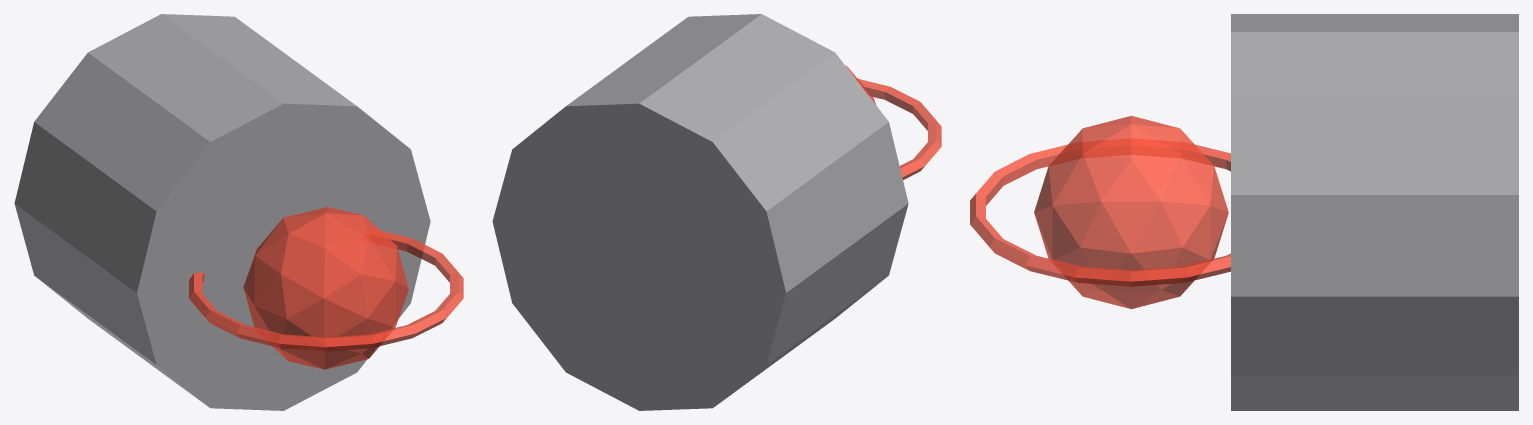
File: boss_trophy_display.glb
The picture shows the model from 3 angles, left to right: view 1: azimuth 30°, elevation 25°; view 2: azimuth 150°, elevation 25°; view 3: azimuth 270°, elevation 25°; orthographic projection. The views are drawn at different scales.
Parts seen in each view (by area): view 1: pedestal, story_relic, relic_halo; view 2: pedestal, relic_halo; view 3: pedestal, story_relic, relic_halo.
Boxes of the visible parts, left/top/right/bottom form: pedestal: left=14, top=14, right=430, bottom=410; story_relic: left=243, top=207, right=408, bottom=369; relic_halo: left=189, top=231, right=463, bottom=351; pedestal: left=492, top=14, right=908, bottom=410; relic_halo: left=858, top=79, right=941, bottom=179; pedestal: left=1231, top=14, right=1518, bottom=410; story_relic: left=1034, top=115, right=1228, bottom=309; relic_halo: left=970, top=144, right=1230, bottom=286.
Bounding box in the file's own units: 0.9 × 0.9 × 1.24.
